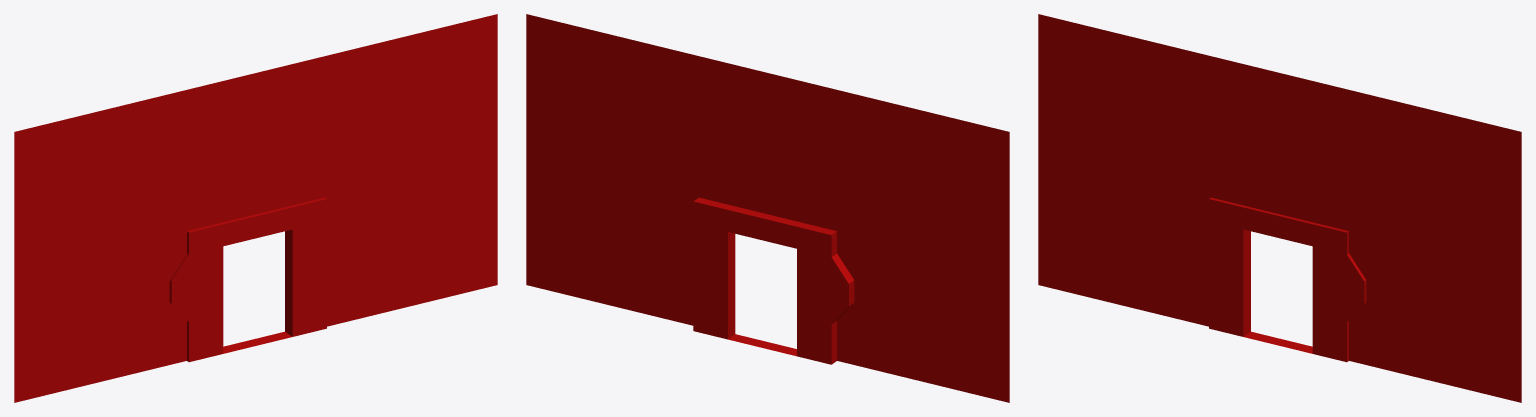
Rendered from coll_room_doorway.fbx.
The picture shows the model from 3 angles, left to right: view 1: azimuth 30°, elevation 25°; view 2: azimuth 150°, elevation 25°; view 3: azimuth 330°, elevation 25°; orthographic projection.
Parts seen in each view (by area): view 1: coll_room_doorway; view 2: coll_room_doorway; view 3: coll_room_doorway.
Boxes of the visible parts, left/top/right/bottom form: coll_room_doorway: left=14, top=14, right=497, bottom=402; coll_room_doorway: left=526, top=14, right=1009, bottom=402; coll_room_doorway: left=1038, top=14, right=1521, bottom=402.
Bounding box in the file's own units: 28 × 15 × 0.7462.
